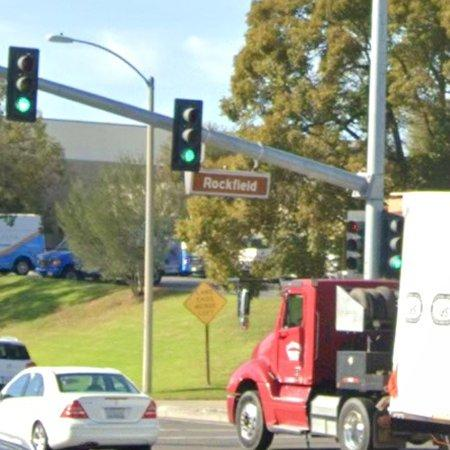traffic lights: (172, 99, 203, 171)
